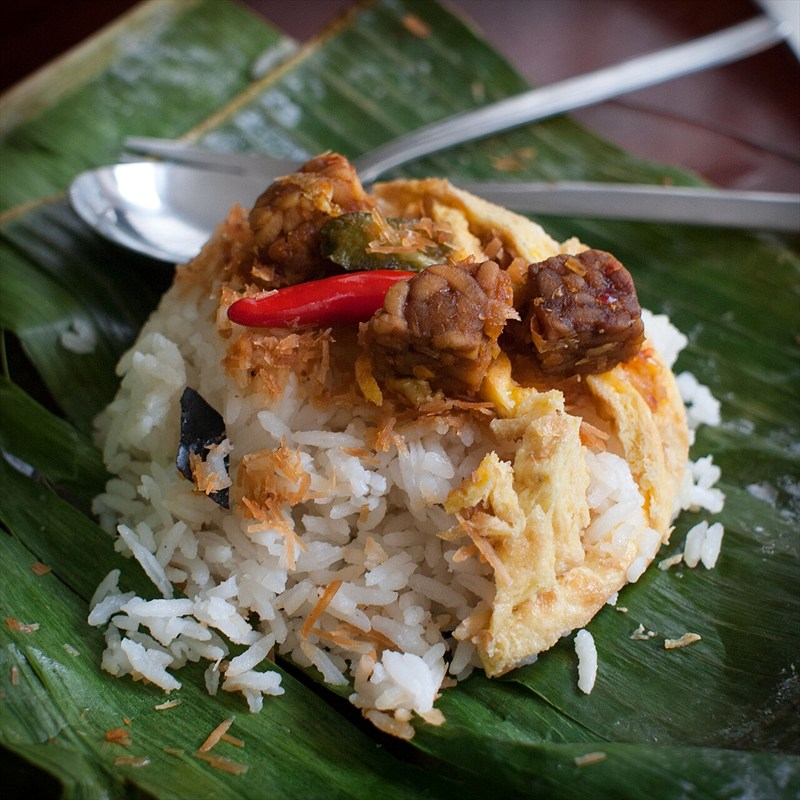Tempe Goreng: (107, 72, 718, 695)
